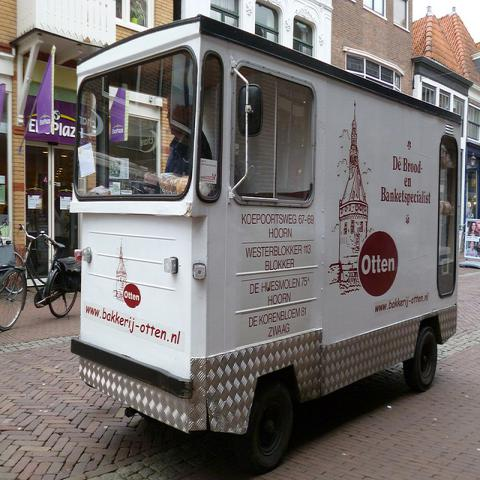truck: (70, 16, 466, 471)
